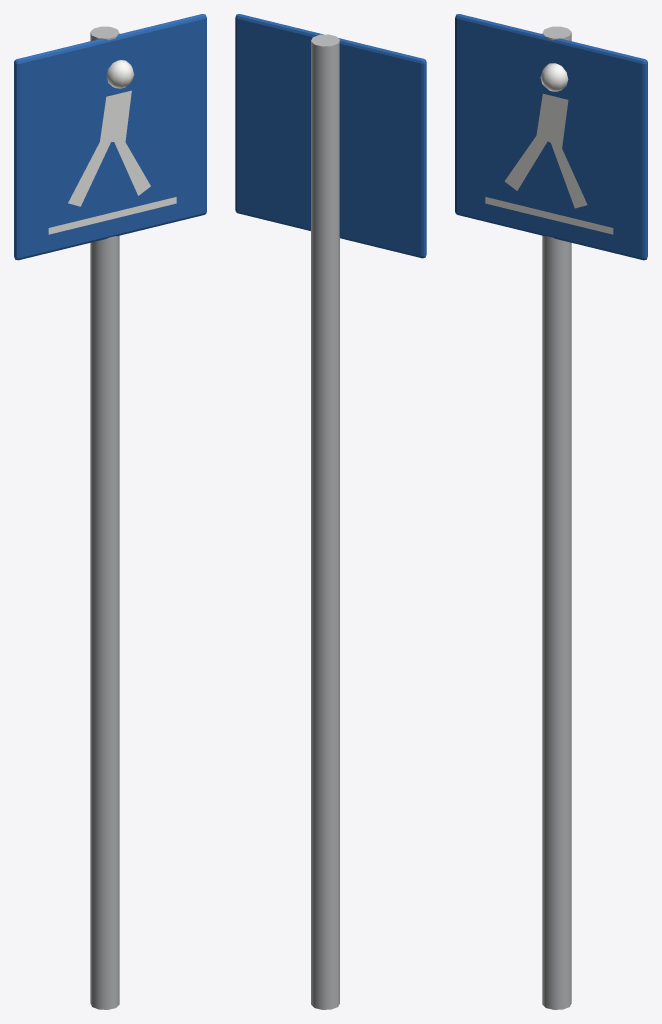
Rendered from crossing_sign.glb.
3 views of the same model, side by side, from view 1: azimuth 30°, elevation 25°; view 2: azimuth 150°, elevation 25°; view 3: azimuth 330°, elevation 25° (orthographic).
Visible parts, largest first — view 1: Panel, Pole, Figure; view 2: Panel, Pole; view 3: Panel, Pole, Figure.
Boxes of the visible parts, <box> form: Panel: <box>14,14,206,260</box>; Pole: <box>90,26,119,1009</box>; Figure: <box>48,60,176,234</box>; Panel: <box>235,14,426,258</box>; Pole: <box>311,34,339,1009</box>; Panel: <box>455,14,647,260</box>; Pole: <box>542,26,571,1009</box>; Figure: <box>485,63,613,234</box>.
Size of the model in its own units: 0.6 by 2.9 by 0.1211.
